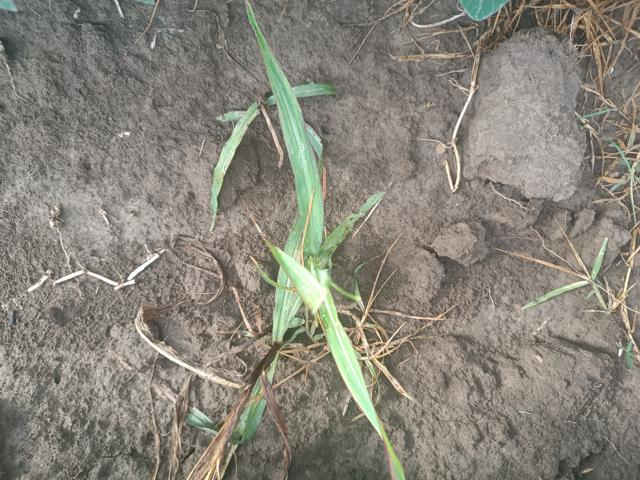bad weed: (202, 32, 447, 480), (523, 194, 640, 366)
